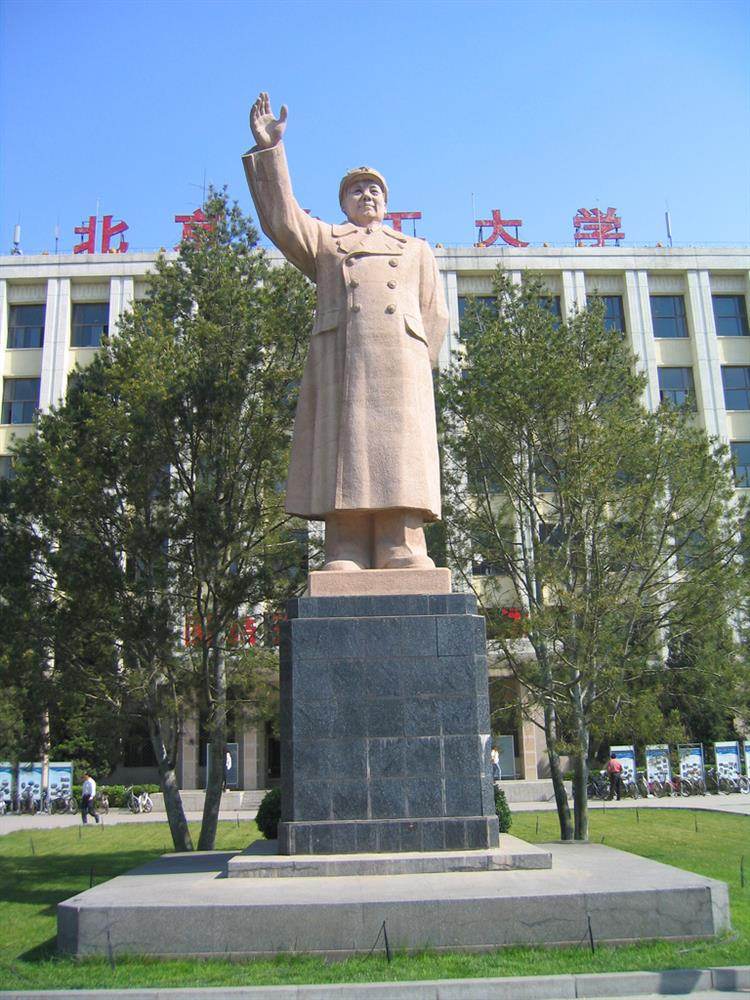Chairman_Mao_Statue: (235, 92, 454, 595)
